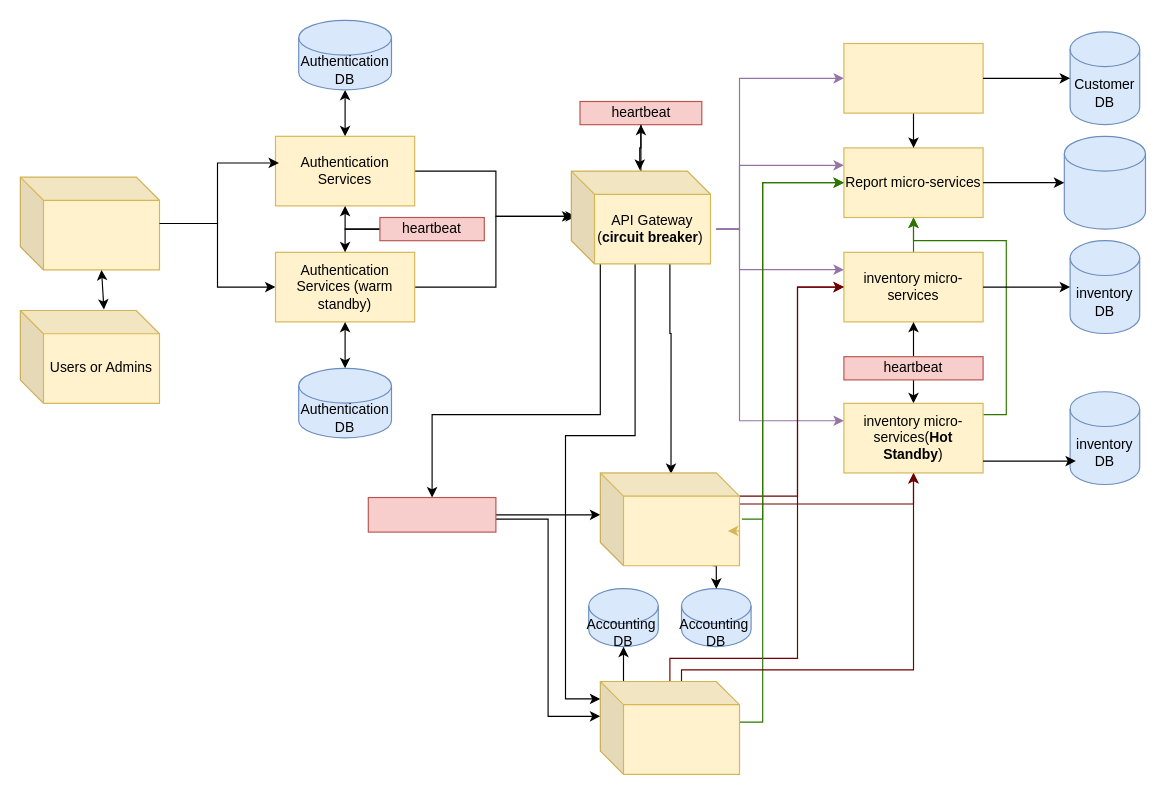
This 1166x795 diagram has some shape labels left out. Here are the shapes that lost their labels. From the top down, the box of each, then its label:
(843, 42, 983, 113): Customer micro-services
(1063, 135, 1146, 229): report(View) DB
(19, 176, 160, 270): BFF's
(367, 496, 496, 532): Arbiter/Heartbeat
(599, 472, 740, 566): Transaction micro-services(store id[0 to 200])(hotspare)
(599, 680, 740, 774): Transaction micro-services(store id[0 to 200])(Active)
